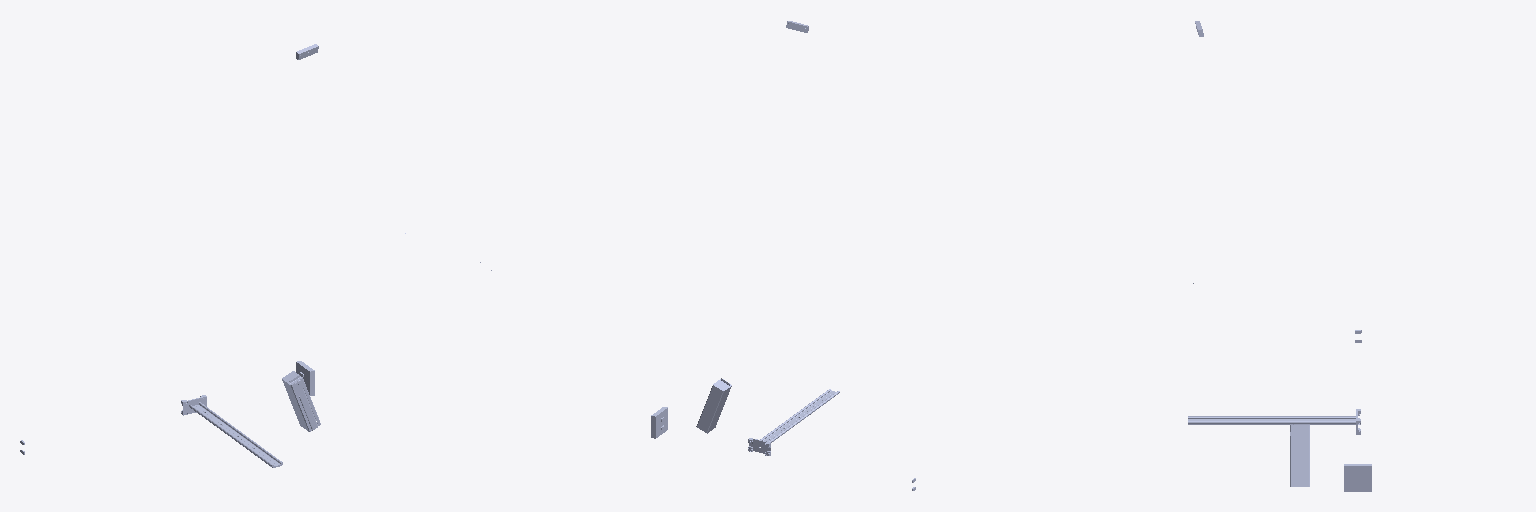
--- Render facts (derived) ---
Views: 3 orthographic renders of the robot side by side, from view 1: azimuth 30°, elevation 25°; view 2: azimuth 150°, elevation 25°; view 3: azimuth 270°, elevation 25°.
Robot: robo_description — 21 links, 20 joints (2 revolute, 2 prismatic, 16 fixed); root link base_link; default pose: all joints at 0 but 1 set to mid-range because 0 is outside their limits (joint5 = 0.4665).
Links seen in each view (by area): view 1: link2, link5; view 2: link2, link5; view 3: link2, link5, base_link.
Boxes of the visible links, x1,y1,x2,y2 form: link2: (181,395,282,467); link5: (282,371,320,431); link2: (748,389,839,455); link5: (696,378,731,433); link2: (1188,409,1360,434); link5: (1290,424,1309,486); base_link: (1344,330,1371,491).
Bounding box of the posed robot: 1.65 × 0.657 × 1.72 m (x, y, z).
Meshes: 6 distinct files referenced, 4 mesh visuals loaded (4 binary STL); not drawn: 2 (reference not matched to a file when rendering).

URDF robot description (robo_description):
<?xml version="1.0" encoding="utf-8"?>
<!-- 25AUG2023 Changed the minimum limit of lJoint5 to 0.247 and max to 0.686 -->
<!-- This URDF was automatically created by SolidWorks to URDF Exporter! Originally created by Stephen Brawner ([email redacted]) 
     Commit Version: 1.6.0-4-g7f85cfe  Build Version: 1.6.7995.38578
     For more information, please see http://wiki.ros.org/sw_urdf_exporter -->
<robot
  name="robo_description">
  <link
    name="base_link">
    <inertial>
      <origin
        xyz="-5.13826234849775E-17 -1.63904738952765E-17 0.339473684210526"
        rpy="0 0 0" />
      <mass
        value="19" />
      <inertia
        ixx="2.34956140350877"
        ixy="1.11311423041845E-17"
        ixz="3.69215798456927E-16"
        iyy="2.34956140350877"
        iyz="-7.44985984223617E-17"
        izz="0.151666666666667" />
    </inertial>
    <visual>
      <origin
        xyz="0 0 0"
        rpy="0 0 0" />
      <geometry>
        <mesh
          filename="package://robo_description/meshes/base_link.STL" />
      </geometry>
      <material
        name="">
        <color
          rgba="0.792156862745098 0.819607843137255 0.933333333333333 1" />
      </material>
    </visual>
    <collision>
      <origin
        xyz="0 0 0"
        rpy="0 0 0" />
      <geometry>
        <mesh
          filename="package://robo_description/meshes/base_link.STL" />
      </geometry>
    </collision>
  </link>
  <link
    name="link2">
    <inertial>
      <origin
        xyz="-0.001261 -0.2858 0.14572"
        rpy="0 0 0" />
      <mass
        value="3.13280329013611" />
      <inertia
        ixx="0.0169430024052603"
        ixy="-0.00280446630124331"
        ixz="0.0223183329111622"
        iyy="0.162057682822749"
        iyz="0.000505061238040558"
        izz="0.161640952999751" />
    </inertial>
    <visual>
      <origin
        xyz="0 0 -1"
        rpy="0 0 0" />
      <geometry>
        <mesh
          filename="package://robo_description/meshes/link2.STL" />
      </geometry>
      <material
        name="">
        <color
          rgba="0.792156862745098 0.819607843137255 0.933333333333333 1" />
      </material>
    </visual>
    <collision>
      <origin
        xyz="0 0 0"
        rpy="0 0 0" />
      <geometry>
        <mesh
          filename="package://robo_description/meshes/link2.STL" />
      </geometry>
    </collision>
  </link>
  <joint
    name="joint2"
    type="prismatic">
    <origin
      xyz="0.0 0 1"
      rpy="0 0 0" />
    <parent
      link="base_link" />
    <child
      link="link2" />
    <axis
      xyz="0 0 1" />
    <limit
      lower="0"
      upper="1"
      effort="0"
      velocity="0" />
  </joint>
  <link
    name="link4">
    <inertial>
      <origin
        xyz="-0.000438554587764983 0.0620490502692163 -0.172885898172371"
        rpy="0 0 0" />
      <mass
        value="0.162146723185788" />
      <inertia
        ixx="0.00336616371871891"
        ixy="1.46811284877534E-06"
        ixz="-3.57096843523024E-06"
        iyy="0.00312866852492012"
        iyz="0.00048231220150353"
        izz="0.000338308018448651" />
    </inertial>
    <visual>
      <origin
        xyz="-0.4665 0 -0.790"
        rpy="0 0 0" />
      <geometry>
        <mesh
          filename="package://robo_description/meshes/link4.STL" />
      </geometry>
      <material
        name="">
        <color
          rgba="0.792156862745098 0.819607843137255 0.933333333333333 1" />
      </material>
    </visual>
    <collision>
      <origin
        xyz="0 0 0"
        rpy="0 0 0" />
      <geometry>
        <mesh
          filename="package://robo_description/meshes/link4.STL" />
      </geometry>
    </collision>
  </link>
  <joint
    name="joint4"
    type="revolute">
    <origin
      xyz="0.46904 0 -0.21"
      rpy="0 0 0" />
    <parent
      link="link2" />
    <child
      link="link4" />
    <axis
      xyz="0 0 1" />
    <limit
      lower="-2.9671"
      upper="2.9671"
      effort="0"
      velocity="0" />
  </joint>
  <link
    name="link3">
    <inertial>
      <origin
        xyz="-0.0832189655707039 -0.0894795892974461 -0.00179630042130147"
        rpy="0 0 0" />
      <mass
        value="1.71811977068641" />
      <inertia
        ixx="0.00948440583507882"
        ixy="-0.00159429497921182"
        ixz="0.00308193362516688"
        iyy="0.035537875179704"
        iyz="0.000648421421055908"
        izz="0.0305779645247813" />
    </inertial>
    <visual>
      <origin
        xyz="-0.468545 -0.078 -0.43528"
        rpy="0 0 0" />
      <geometry>
        <mesh
          filename="package://robo_description/meshes/link3.STL" />
      </geometry>
      <material
        name="">
        <color
          rgba="0.792156862745098 0.819607843137255 0.933333333333333 1" />
      </material>
    </visual>
    <collision>
      <origin
        xyz="0 0 0"
        rpy="0 0 0" />
      <geometry>
        <mesh
          filename="package://robo_description/meshes/link3.STL" />
      </geometry>
    </collision>
  </link>
  <joint
    name="joint3"
    type="revolute">
    <origin
      xyz="0.0 0.077824 -0.35472"
      rpy="0 0 0" />
    <parent
      link="link4" />
    <child
      link="link3" />
    <axis
      xyz="0 1 0" />
    <limit
      lower="-1.5708"
      upper="1.5708"
      effort="0"
      velocity="0" />
  </joint>
  <link
    name="yanthra_link">
    <inertial>
      <origin
        xyz="-0.0832189655707036 -0.0114795892974462 -0.00179630042130124"
        rpy="0 0 0" />
      <mass
        value="1.71811977068641" />
      <inertia
        ixx="0.00948440583507882"
        ixy="-0.00159429497921182"
        ixz="0.0030819336251669"
        iyy="0.035537875179704"
        iyz="0.000648421421055907"
        izz="0.0305779645247813" />
    </inertial>
    <visual>
      <origin
        xyz="0 0 0"
        rpy="0 0 0" />
      <geometry>
        <box size="0.001 0.001 0.001"/>
      </geometry>
      <material
        name="">
        <color
          rgba="0.792156862745098 0.819607843137255 0.933333333333333 1" />
      </material>
    </visual>
    <collision>
      <origin
        xyz="0 0 0"
        rpy="0 0 0" />
      <geometry>
        <box size="0.001 0.001 0.001"/>
      </geometry>
    </collision>
  </link>
  <joint
    name="yanthra_joint"
    type="fixed">
    <origin
      xyz="0 -0.078 0"
      rpy="0 0 0" />
    <parent
      link="link3" />
    <child
      link="yanthra_link" />
    <axis
      xyz="0 0 0" />
  </joint>
  <link
    name="link5_origin">
    <inertial>
      <origin
        xyz="-0.00874999999999998 0.0375 -0.00507843424240889"
        rpy="0 0 0" />
      <mass
        value="0.0438088883035136" />
      <inertia
        ixx="3.24913884800222E-05"
        ixy="1.33063310958086E-21"
        ixz="-8.470329472543E-22"
        iyy="3.99574478810853E-06"
        iyz="-3.38875204913906E-21"
        izz="3.07317223657389E-05" />
    </inertial>
    <visual>
      <origin
        xyz="0 0 0"
        rpy="0 0 0" />
      <geometry>
        <box size="0.001 0.001 0.001"/>
      </geometry>
      <material
        name="">
        <color
          rgba="0.792156862745098 0.819607843137255 0.933333333333333 1" />
      </material>
    </visual>
    <collision>
      <origin
        xyz="0 0 0"
        rpy="0 0 0" />
      <geometry>
        <box size="0.001 0.001 0.001"/>
      </geometry>
    </collision>
  </link>
  <joint
    name="link5_origin_joint"
    type="fixed">
    <origin
      xyz="0 0 0.0"
      rpy="0 0 0" />
    <parent	
      link="yanthra_link" />
    <child
      link="link5_origin" />
    <axis
      xyz="0 0 0" />
  </joint>
  <link
    name="link5">
    <inertial>
      <origin
        xyz="0.108132413871145 2.08242781028485E-06 0.00569147154470495"
        rpy="0 0 0" />
      <mass
        value="0.277404400359573" />
      <inertia
        ixx="0.00021628976171093"
        ixy="1.27900715148446E-06"
        ixz="-0.000135093187106687"
        iyy="0.00359200319167061"
        iyz="-8.36237914028336E-08"
        izz="0.00358633509004247" />
    </inertial>
    <visual>
      <origin
        xyz="-0.715545 0 -0.43528"
        rpy="0 0 0" />
      <geometry>
        <mesh
          filename="package://robo_description/meshes/link5.STL" />
      </geometry>
      <material
        name="">
        <color
          rgba="0.792156862745098 0.819607843137255 0.933333333333333 1" />
      </material>
    </visual>
    <collision>
      <origin
        xyz="0 0 0"
        rpy="0 0 0" />
      <geometry>
        <mesh
          filename="package://robo_description/meshes/link5.STL" />
      </geometry>
    </collision>
  </link>
  <joint
    name="joint5"
    type="prismatic">
    <origin
      xyz="0.0 0 0"
      rpy="0 0 0" />
    <parent
      link="link5_origin" />
    <child
      link="link5" />
    <axis
      xyz="1 0 0" />
    <limit
      lower="0.247"
      upper="0.686"
      effort="0"
      velocity="0" />
  </joint>
  <link
    name="ee_link">
    <inertial>
      <origin
        xyz="-0.00874999999999998 0.0375 -0.00507843424240889"
        rpy="0 0 0" />
      <mass
        value="0.0438088883035136" />
      <inertia
        ixx="3.24913884800222E-05"
        ixy="1.33063310958086E-21"
        ixz="-8.470329472543E-22"
        iyy="3.99574478810853E-06"
        iyz="-3.38875204913906E-21"
        izz="3.07317223657389E-05" />
    </inertial>
    <visual>
      <origin
        xyz="0 0 0"
        rpy="0 0 0" />
      <geometry>
        <box size="0.001 0.001 0.001"/>
      </geometry>
      <material
        name="">
        <color
          rgba="0.792156862745098 0.819607843137255 0.933333333333333 1" />
      </material>
    </visual>
    <collision>
      <origin
        xyz="0 0 0"
        rpy="0 0 0" />
      <geometry>
        <box size="0.001 0.001 0.001"/>
      </geometry>
    </collision>
  </link>
  <joint
    name="ee_joint"
    type="fixed">
    <origin
      xyz="-0.085 0 0"
      rpy="0 0 0" />
    <parent	
      link="link5" />
    <child
      link="ee_link" />
    <axis
      xyz="0 0 0" />
  </joint>
  <link
    name="aruco_marker_link">
    <inertial>
      <origin
        xyz="-0.00874999999999998 0.0375 -0.00507843424240889"
        rpy="0 0 0" />
      <mass
        value="0.0438088883035136" />
      <inertia
        ixx="3.24913884800222E-05"
        ixy="1.33063310958086E-21"
        ixz="-8.470329472543E-22"
        iyy="3.99574478810853E-06"
        iyz="-3.38875204913906E-21"
        izz="3.07317223657389E-05" />
    </inertial>
    <visual>
      <origin
        xyz="0 0 0"
        rpy="0 0 0" />
      <geometry>
        <box size="0.001 0.001 0.001"/>
      </geometry>
      <material
        name="">
        <color
          rgba="0.792156862745098 0.819607843137255 0.933333333333333 1" />
      </material>
    </visual>
    <collision>
      <origin
        xyz="0 0 0"
        rpy="0 0 0" />
      <geometry>
        <box size="0.001 0.001 0.001"/>
      </geometry>
    </collision>
  </link>
  <joint
    name="aruco_joint"
    type="fixed">
    <origin
      xyz="0.0 0 0.08"
      rpy="0 0 0" />
    <parent	
      link="ee_link" />
    <child
      link="aruco_marker_link" />
    <axis
      xyz="0 0 0" />
  </joint>
  <link
    name="aruco_link_1">
    <inertial>
      <origin
        xyz="-0.00874999999999998 0.0375 -0.00507843424240889"
        rpy="0 0 0" />
      <mass
        value="0.0438088883035136" />
      <inertia
        ixx="3.24913884800222E-05"
        ixy="1.33063310958086E-21"
        ixz="-8.470329472543E-22"
        iyy="3.99574478810853E-06"
        iyz="-3.38875204913906E-21"
        izz="3.07317223657389E-05" />
    </inertial>
    <visual>
      <origin
        xyz="0 0 0"
        rpy="0 0 0" />
      <geometry>
        <box size="0.001 0.001 0.001"/>
      </geometry>
      <material
        name="">
        <color
          rgba="0.792156862745098 0.819607843137255 0.933333333333333 1" />
      </material>
    </visual>
    <collision>
      <origin
        xyz="0 0 0"
        rpy="0 0 0" />
      <geometry>
        <box size="0.001 0.001 0.001"/>
      </geometry>
    </collision>
  </link>
  <joint
    name="aruco_joint_1"
    type="fixed">
    <origin
      xyz="0.0 0.04 0.04"
      rpy="0 0 0" />
    <parent	
      link="aruco_marker_link" />
    <child
      link="aruco_link_1" />
    <axis
      xyz="0 0 0" />
  </joint>
  <link
    name="aruco_link_2">
    <inertial>
      <origin
        xyz="-0.00874999999999998 0.0375 -0.00507843424240889"
        rpy="0 0 0" />
      <mass
        value="0.0438088883035136" />
      <inertia
        ixx="3.24913884800222E-05"
        ixy="1.33063310958086E-21"
        ixz="-8.470329472543E-22"
        iyy="3.99574478810853E-06"
        iyz="-3.38875204913906E-21"
        izz="3.07317223657389E-05" />
    </inertial>
    <visual>
      <origin
        xyz="0 0 0"
        rpy="0 0 0" />
      <geometry>
        <box size="0.001 0.001 0.001"/>
      </geometry>
      <material
        name="">
        <color
          rgba="0.792156862745098 0.819607843137255 0.933333333333333 1" />
      </material>
    </visual>
    <collision>
      <origin
        xyz="0 0 0"
        rpy="0 0 0" />
      <geometry>
        <box size="0.001 0.001 0.001"/>
      </geometry>
    </collision>
  </link>
  <joint
    name="aruco_joint_2"
    type="fixed">
    <origin
      xyz="0.0 -0.04 0.04"
      rpy="0 0 0" />
    <parent	
      link="aruco_marker_link" />
    <child
      link="aruco_link_2" />
    <axis
      xyz="0 0 0" />
  </joint>
  <link
    name="aruco_link_3">
    <inertial>
      <origin
        xyz="-0.00874999999999998 0.0375 -0.00507843424240889"
        rpy="0 0 0" />
      <mass
        value="0.0438088883035136" />
      <inertia
        ixx="3.24913884800222E-05"
        ixy="1.33063310958086E-21"
        ixz="-8.470329472543E-22"
        iyy="3.99574478810853E-06"
        iyz="-3.38875204913906E-21"
        izz="3.07317223657389E-05" />
    </inertial>
    <visual>
      <origin
        xyz="0 0 0"
        rpy="0 0 0" />
      <geometry>
        <box size="0.001 0.001 0.001"/>
      </geometry>
      <material
        name="">
        <color
          rgba="0.792156862745098 0.819607843137255 0.933333333333333 1" />
      </material>
    </visual>
    <collision>
      <origin
        xyz="0 0 0"
        rpy="0 0 0" />
      <geometry>
        <box size="0.001 0.001 0.001"/>
      </geometry>
    </collision>
  </link>
  <joint
    name="aruco_joint_3"
    type="fixed">
    <origin
      xyz="0.0 0.04 -0.04"
      rpy="0 0 0" />
    <parent	
      link="aruco_marker_link" />
    <child
      link="aruco_link_3" />
    <axis
      xyz="0 0 0" />
  </joint>
  <link
    name="aruco_link_4">
    <inertial>
      <origin
        xyz="-0.00874999999999998 0.0375 -0.00507843424240889"
        rpy="0 0 0" />
      <mass
        value="0.0438088883035136" />
      <inertia
        ixx="3.24913884800222E-05"
        ixy="1.33063310958086E-21"
        ixz="-8.470329472543E-22"
        iyy="3.99574478810853E-06"
        iyz="-3.38875204913906E-21"
        izz="3.07317223657389E-05" />
    </inertial>
    <visual>
      <origin
        xyz="0 0 0"
        rpy="0 0 0" />
      <geometry>
        <box size="0.001 0.001 0.001"/>
      </geometry>
      <material
        name="">
        <color
          rgba="0.792156862745098 0.819607843137255 0.933333333333333 1" />
      </material>
    </visual>
    <collision>
      <origin
        xyz="0 0 0"
        rpy="0 0 0" />
      <geometry>
        <box size="0.001 0.001 0.001"/>
      </geometry>
    </collision>
  </link>
  <joint
    name="aruco_joint_4"
    type="fixed">
    <origin
      xyz="0.0 -0.04 -0.04"
      rpy="0 0 0" />
    <parent	
      link="aruco_marker_link" />
    <child
      link="aruco_link_4" />
    <axis
      xyz="0 0 0" />
  </joint>
  <link
    name="link7">
    <inertial>
      <origin
        xyz="-0.00129487747822488 -0.0114795892973884 0.11996423535158"
        rpy="0 0 0" />
      <mass
        value="1.71811977068641" />
      <inertia
        ixx="0.0113386071435481"
        ixy="-0.00171490439294498"
        ixz="-0.00672100859249017"
        iyy="0.0355378751797041"
        iyz="-0.0001460470577602"
        izz="0.0287237632163119" />
    </inertial>
    <visual>
      <origin
        xyz="0 0 0"
        rpy="0 0 0" />
      <geometry>
        <box size="0.001 0.001 0.001"/>
      </geometry>
      <material
        name="">
        <color
          rgba="0.792156862745098 0.819607843137255 0.933333333333333 1" />
      </material>
    </visual>
    <collision>
      <origin
        xyz="0 0 0"
        rpy="0 0 0" />
      <geometry>
        <box size="0.001 0.001 0.001"/>
      </geometry>
    </collision>
  </link>
  <joint
    name="joint7"
    type="fixed">
    <origin
      xyz="0.47229 -0.069971 0.80411"
      rpy="0 0.785398 -1.5708" />
    <parent
      link="base_link"/>
    <child
      link="link7"/>
    <axis
      xyz="0 0 0" />
  </joint>
  <link
    name="camera_mount_link">
    <inertial>
      <origin
        xyz="-0.00129487747822488 -0.0114795892973883 0.11996423535158"
        rpy="0 0 0" />
      <mass
        value="1.71811977068641" />
      <inertia
        ixx="0.0113386071435481"
        ixy="-0.00171490439294498"
        ixz="-0.00672100859249018"
        iyy="0.0355378751797041"
        iyz="-0.000146047057760202"
        izz="0.0287237632163119" />
    </inertial>
    <visual>
      <origin
        xyz="0 0 0"
        rpy="0 0 0" />
      <geometry>
        <box size="0.001 0.001 0.001"/>
      </geometry>
      <material
        name="">
        <color
          rgba="0.792156862745098 0.819607843137255 0.933333333333333 1" />
      </material>
    </visual>
    <collision>
      <origin
        xyz="0 0 0"
        rpy="0 0 0" />
      <geometry>
        <box size="0.001 0.001 0.001"/>
      </geometry>
    </collision>
  </link>
     <!--Realsense Camera depth is 20 mm from back to glass, But the depth start point(GROUND ZERO REFERENCE i.e depth is Zero) is 1.1 mm behind glass-->
     <!--Camera thickness-Zero Ref +Plate thick=20-1.1+2 = 20.09 mm -->
     <!-- xyz="0.0209 -0.0375 0"-->
  <joint
    name="camera_mount_joint"
    type="fixed">
    <origin
      xyz="0.02090 -0.0375 0"
      rpy="-1.5708 0 -1.5708" />
    <parent
      link="link7" />
    <child
      link="camera_mount_link" />
    <axis
      xyz="0 0 0" />
  </joint>
  <link
    name="virtual_cam_link">
    <inertial>
      <origin
        xyz="-0.00874999999999998 0.0375 -0.00507843424240889"
        rpy="0 0 0" />
      <mass
        value="0.0438088883035136" />
      <inertia
        ixx="3.24913884800222E-05"
        ixy="1.33063310958086E-21"
        ixz="-8.470329472543E-22"
        iyy="3.99574478810853E-06"
        iyz="-3.38875204913906E-21"
        izz="3.07317223657389E-05" />
    </inertial>
    <visual>
      <origin
        xyz="0 0 0"
        rpy="0 0 0" />
      <geometry>
        <box size="0.001 0.001 0.001"/>
      </geometry>
      <material
        name="">
        <color
          rgba="0.792156862745098 0.819607843137255 0.933333333333333 1" />
      </material>
    </visual>
    <collision>
      <origin
        xyz="0 0 0"
        rpy="0 0 0" />
      <geometry>
        <box size="0.001 0.001 0.001"/>
      </geometry>
    </collision>
  </link>
  <joint
    name="virtual_cam_link_joint"
    type="fixed">
    <origin
      xyz="0 0 0"
      rpy="0 0 0" />
    <parent	
      link="camera_mount_link" />
    <child
      link="virtual_cam_link" />
    <axis
      xyz="0 0 0" />
  </joint>

  <link
    name="camera_link">
    <inertial>
      <origin
        xyz="-0.00874999999999998 0.0375 -0.00507843424240889"
        rpy="0 0 0" />
      <mass
        value="0.0438088883035136" />
      <inertia
        ixx="3.24913884800222E-05"
        ixy="1.33063310958086E-21"
        ixz="-8.470329472543E-22"
        iyy="3.99574478810853E-06"
        iyz="-3.38875204913906E-21"
        izz="3.07317223657389E-05" />
    </inertial>
    <visual>
      <origin
        xyz="-0.03768 -0.425 -0.175"
        rpy="0 -2.04 -1.5708" />
      <geometry>
        <mesh
          filename="package://robo_description/meshes/camera_link.STL" />
      </geometry>
      <material
        name="">
        <color
          rgba="0.792156862745098 0.819607843137255 0.933333333333333 1" />
      </material>
    </visual>
    <collision>
      <origin
        xyz="0 0 0"
        rpy="0 0 0" />
      <geometry>
        <mesh
          filename="package://robo_description/meshes/camera_link.STL" />
      </geometry>
    </collision>
  </link>
  <joint
    name="camera_link_joint"
    type="fixed">
    <origin
      xyz="0.11859 -0.156271 -0.208535"
      rpy="0.270049 -0.141437 -0.0325214" />
    <parent
      link="virtual_cam_link" />
    <child
      link="camera_link" />
    <axis
      xyz="0 0 0" />
  </joint>

  <link name="camera_depth_frame">

    <visual>

    <origin xyz="0 0 0" rpy="0 0 0" />

      <geometry>

        <box size="0.001 0.001 0.001"/>

      </geometry>

    </visual>

  </link>

  <joint name="camera_depth_frame_joint" type="fixed">

    <origin rpy="0 0 0" xyz="0 0 0"/>

    <parent link="camera_link"/>

    <child link="camera_depth_frame"/>

  </joint>

  <link name="camera_depth_optical_frame">

    <visual>

    <origin xyz="0 0 0" rpy="0 0 0" />

      <geometry>

        <box size="0.001 0.001 0.001"/>

      </geometry>

    </visual>

  </link>

  <joint name="camera_depth_optical_frame_joint" type="fixed">

   <origin rpy="0 0 0" xyz="0 0 0"/>

   <parent link="camera_depth_frame"/>

   <child link="camera_depth_optical_frame"/>

  </joint>

  <link name="camera_color_frame">

    <visual>

    <origin xyz="0 0 0" rpy="0 0 0" />

      <geometry>

        <box size="0.001 0.001 0.001"/>

      </geometry>

    </visual>

  </link>

  <joint name="camera_color_frame_joint" type="fixed">

    <origin rpy="0 0 0" xyz="0 0 0"/>

    <parent link="camera_link"/>

    <child link="camera_color_frame"/>

  </joint>

  <link name="camera_color_optical_frame">

    <visual>

    <origin xyz="0 0 0" rpy="0 0 0" />

      <geometry>

        <box size="0.001 0.001 0.001"/>

      </geometry>

    </visual>

  </link>

  <joint name="camera_color_optical_frame_joint" type="fixed">

   <origin rpy="0 0 0" xyz="0 0 0"/>

   <parent link="camera_color_frame"/>

   <child link="camera_color_optical_frame"/>

  </joint>
  <gazebo reference="stand">

    <material>Gazebo/Grey</material>

  </gazebo>

  <gazebo reference="link3">

    <material>Gazebo/Green</material>

  </gazebo>

  <gazebo reference="link4">

    <material>Gazebo/Red</material>

  </gazebo>

  <gazebo reference="link5">

    <material>Gazebo/Green</material>

  </gazebo>

  <gazebo reference="link9">

    <material>Gazebo/Red</material>

  </gazebo>

  <gazebo reference="link6">

    <material>Gazebo/White</material>

  </gazebo>

  <transmission name="tran1">

    <type>transmission_interface/SimpleTransmission</type>

    <joint name="joint3">

      <hardwareInterface>hardware_interface/PositionJointInterface</hardwareInterface>

    </joint>

    <actuator name="motor1">

      <hardwareInterface>hardware_interface/PositionJointInterface</hardwareInterface>

      <mechanicalReduction>1</mechanicalReduction>

    </actuator>

  </transmission>

  <transmission name="tran1">

    <type>transmission_interface/SimpleTransmission</type>

    <joint name="joint4">

      <hardwareInterface>hardware_interface/PositionJointInterface</hardwareInterface>

    </joint>

    <actuator name="motor1">

      <hardwareInterface>hardware_interface/PositionJointInterface</hardwareInterface>

      <mechanicalReduction>1</mechanicalReduction>

    </actuator>

  </transmission>

  <transmission name="tran1">

    <type>transmission_interface/SimpleTransmission</type>

    <joint name="joint5">

      <hardwareInterface>hardware_interface/PositionJointInterface</hardwareInterface>

    </joint>

    <actuator name="motor1">

      <hardwareInterface>hardware_interface/PositionJointInterface</hardwareInterface>

      <mechanicalReduction>1</mechanicalReduction>

    </actuator>

  </transmission>

  <gazebo>

    <plugin filename="libgazebo_ros_control.so" name="gazebo_ros_control">

      <robotNameSpace>/arm_controller</robotNameSpace>

    </plugin>

  </gazebo>

</robot>
